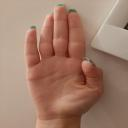OpenPalm: (24, 3, 106, 118)
